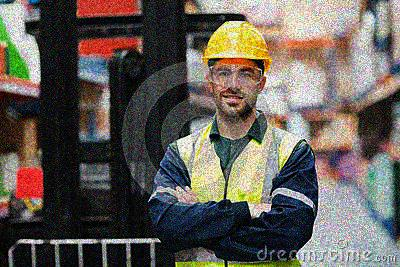helmet: (202, 19, 270, 118)
